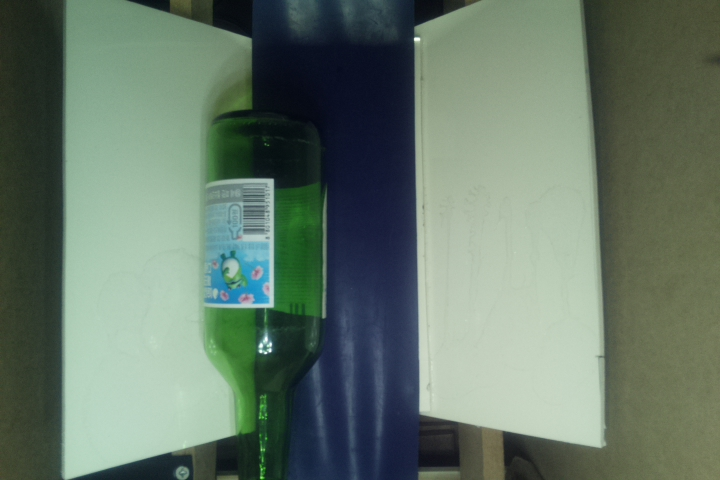soju: (205, 111, 331, 480)
